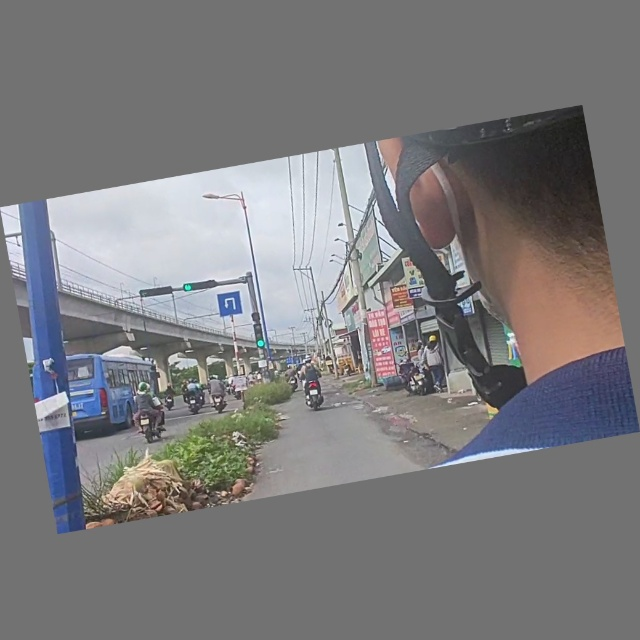I.409: (215, 290, 245, 319)
